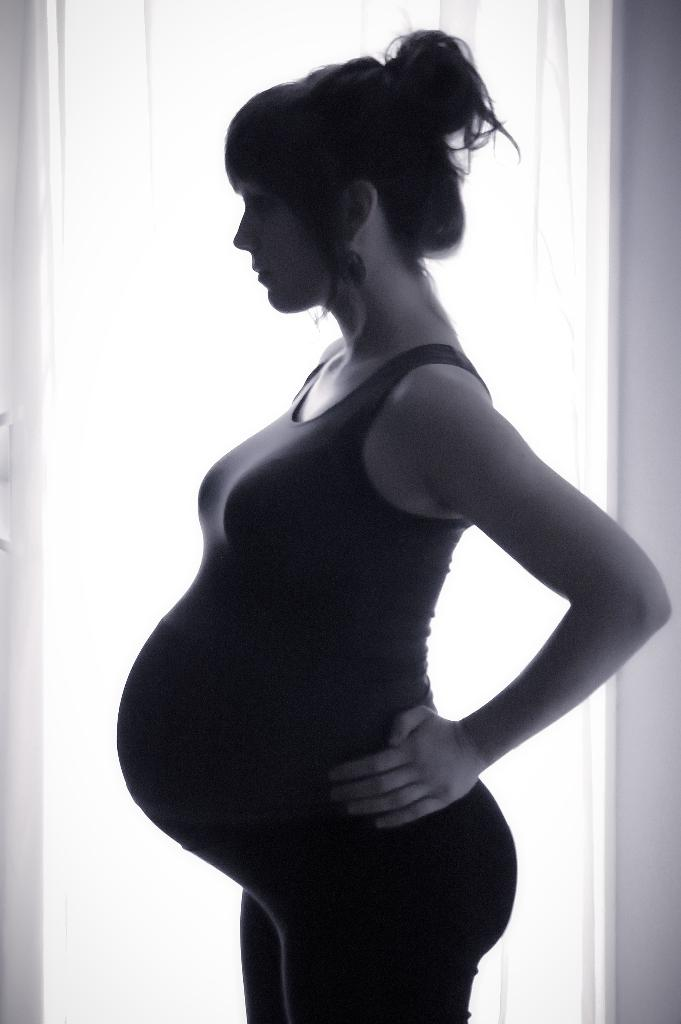face: (231, 136, 318, 314)
